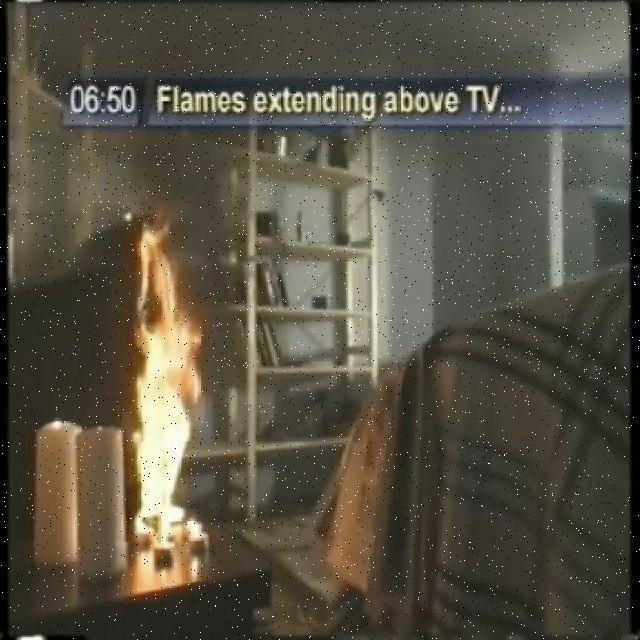smoke: (139, 231, 199, 544)
